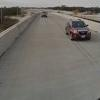Car: (59, 14, 95, 48)
